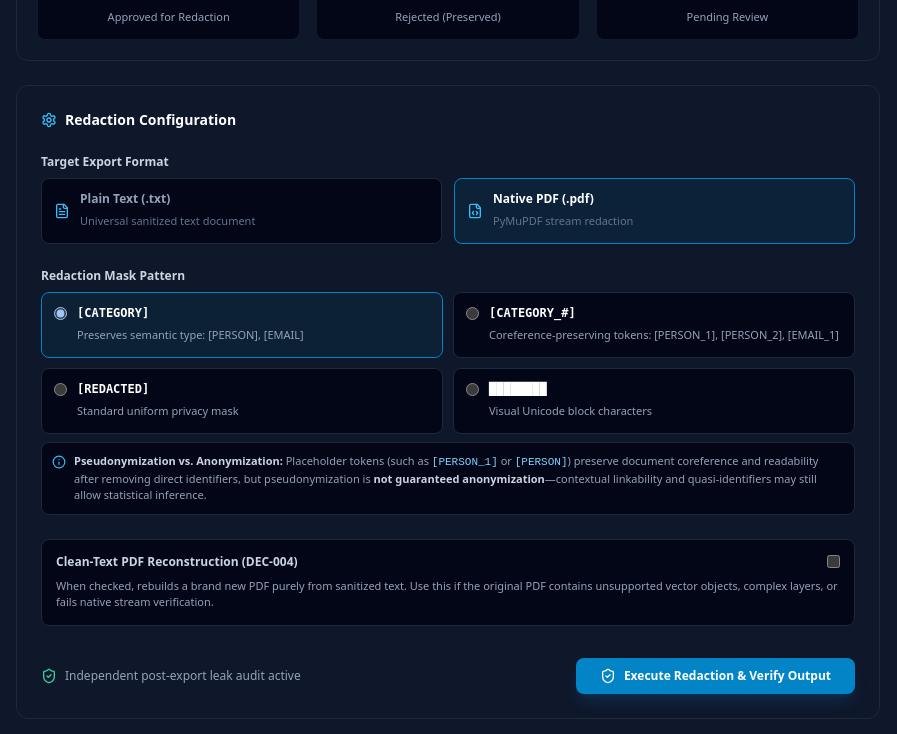
Test case: ExportView Page › offers clean-text reconstruction as a separate user-triggered action when native verification fails
This screenshot has width=897, height=734.
(page scrolled)
expect the text "Execute Redaction & Verify Output" is shown: met, box [624,668,831,684]
What coordinates should you click on to do the following:
click the button "Execute Redaction & Verify Output"
I would click on:
 (715, 676)
Its box is [576,658,855,694].
(page scrolled)
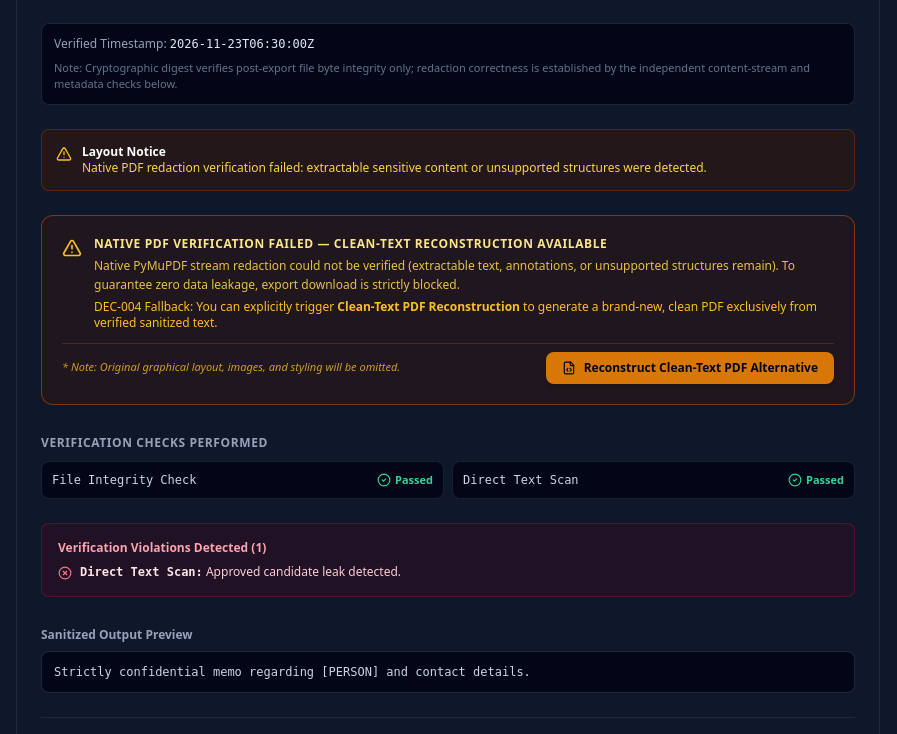
expect the heading "Native PDF Verification Failed — Clean-Text Reconstruction Available" is shown: met, box [94,234,607,252]
expect the text "Reconstruct Clean-Text PDF Alternative" is shown: met, box [584,360,818,376]
